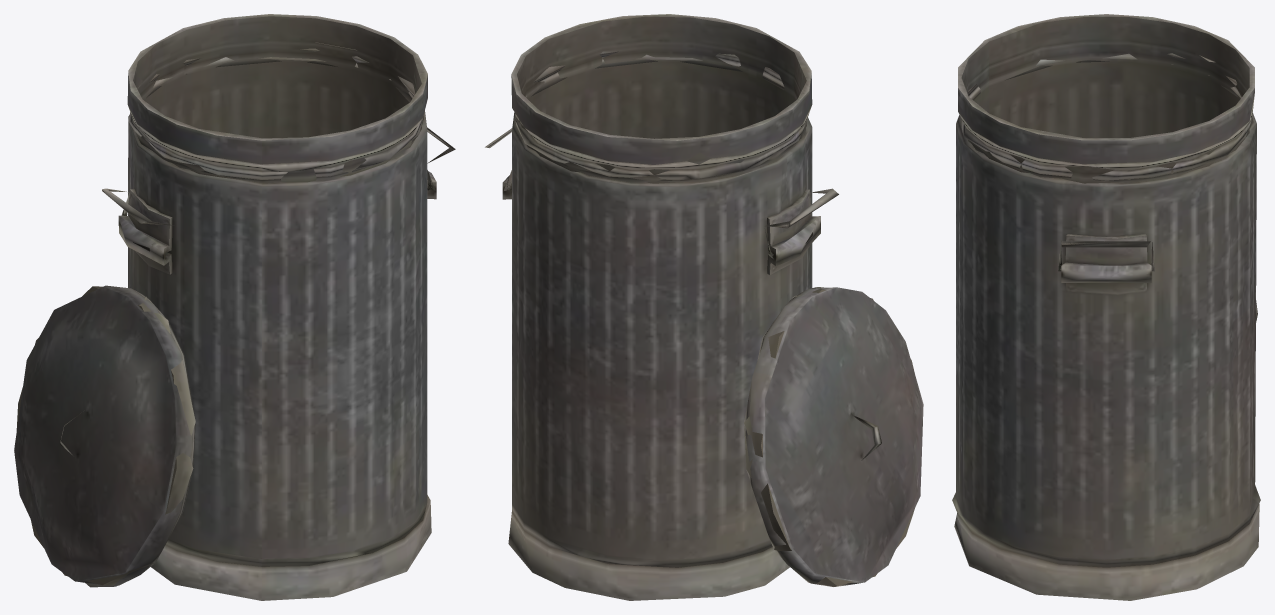
Rendered from ph_bin.glb.
3 views of the same model, side by side, from view 1: azimuth 30°, elevation 25°; view 2: azimuth 150°, elevation 25°; view 3: azimuth 270°, elevation 25° (orthographic).
Visible parts, largest first — view 1: metal_trash_can_handle_left; view 2: metal_trash_can_handle_left; view 3: metal_trash_can_handle_left.
Boxes of the visible parts, x1,y1,x2,y2 form: metal_trash_can_handle_left: (14, 14, 455, 600); metal_trash_can_handle_left: (485, 14, 923, 600); metal_trash_can_handle_left: (952, 14, 1260, 600).
Size of the model in its own units: 0.7771 by 0.9062 by 0.5524.
Materials: 1 (1 with a texture image).
